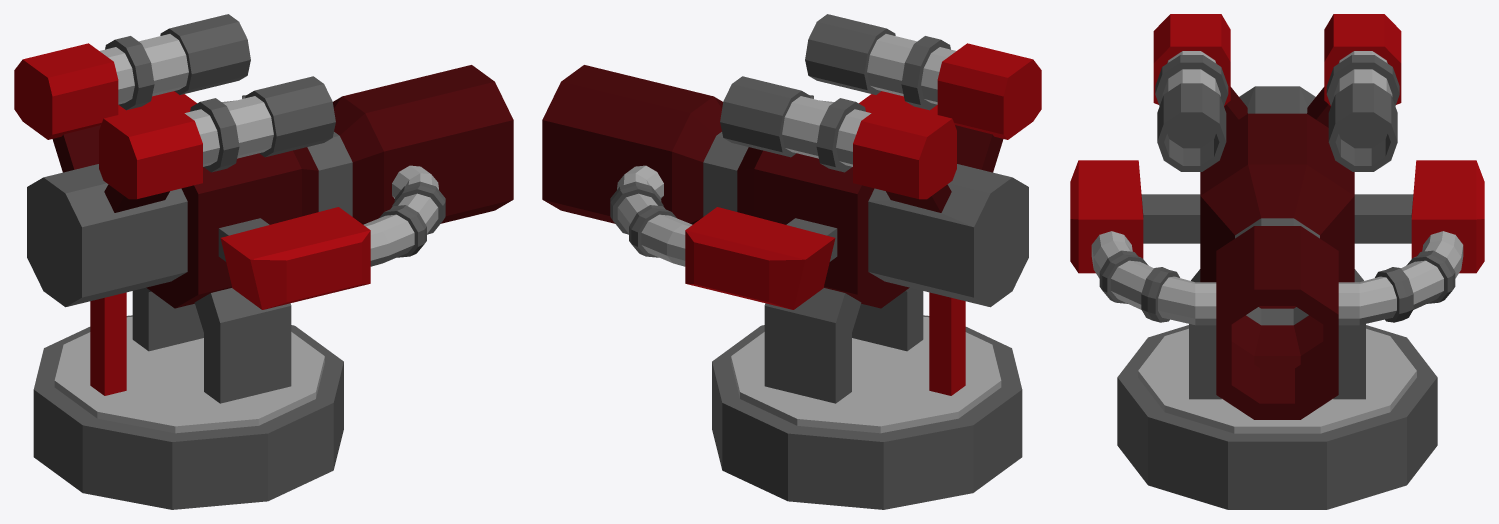
The model's file is AnkerL.fbx.
3 views of the same model, side by side, from view 1: azimuth 30°, elevation 25°; view 2: azimuth 150°, elevation 25°; view 3: azimuth 270°, elevation 25° (orthographic).
Visible parts, largest first — view 1: Cylinder.001, Cylinder.004; view 2: Cylinder.001, Cylinder.004; view 3: Cylinder.001, Cylinder.004.
Boxes of the visible parts, x1,y1,x2,y2 form: Cylinder.001: (14,14,513,433); Cylinder.004: (33,315,343,509); Cylinder.001: (542,14,1041,433); Cylinder.004: (712,315,1022,509); Cylinder.001: (1070,14,1484,433); Cylinder.004: (1117,325,1437,509).
Size of the model in its own units: 662 by 553 by 549.
